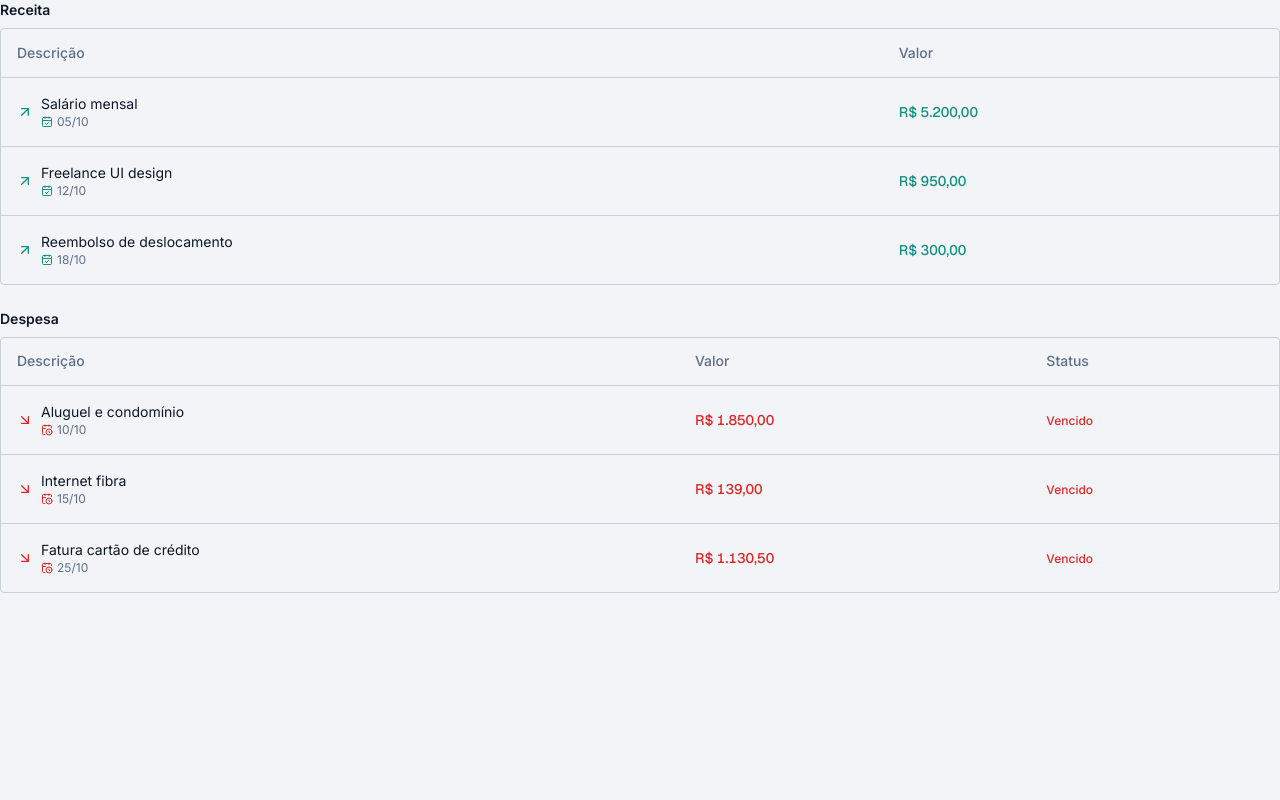
Test: ListaLancamentos — marcar despesa como paga › cancelar fecha o dialogo sem marcar como paga
Click the text "Internet fibra". click: [84, 481]
box: left=41, top=471, right=126, bottom=491
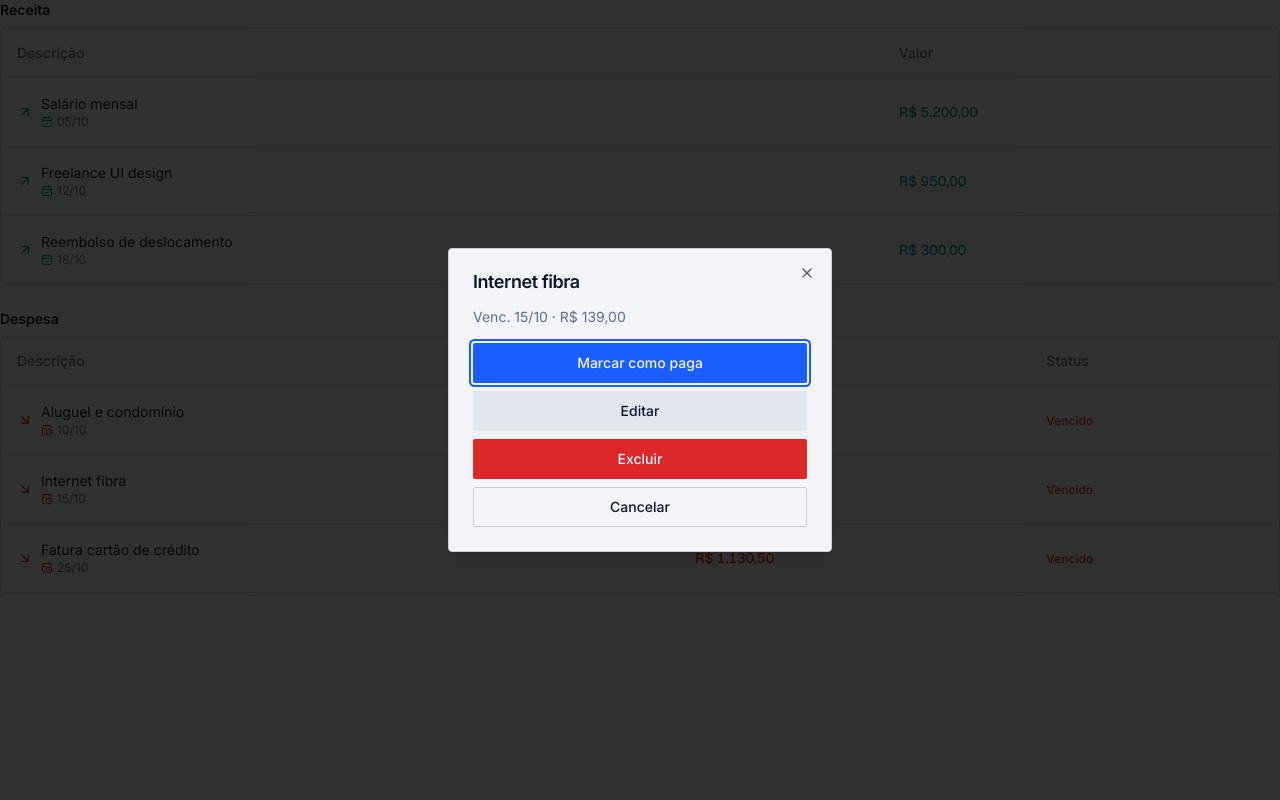
Expected: the button "Marcar como paga" is shown, left=473, top=343, right=807, bottom=383
Click the button "Cancelar". click: [640, 507]
box: left=473, top=487, right=807, bottom=527
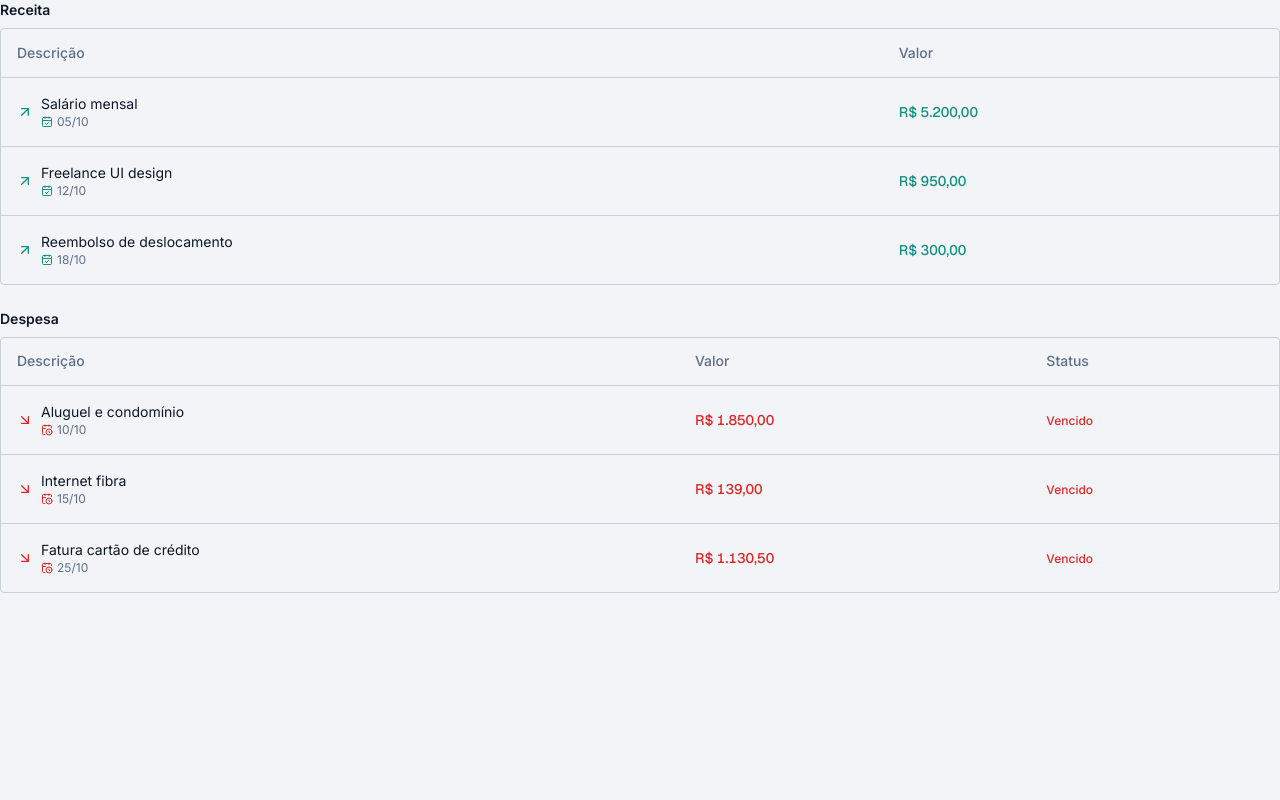
Expected: the button "Marcar como paga" is gone
